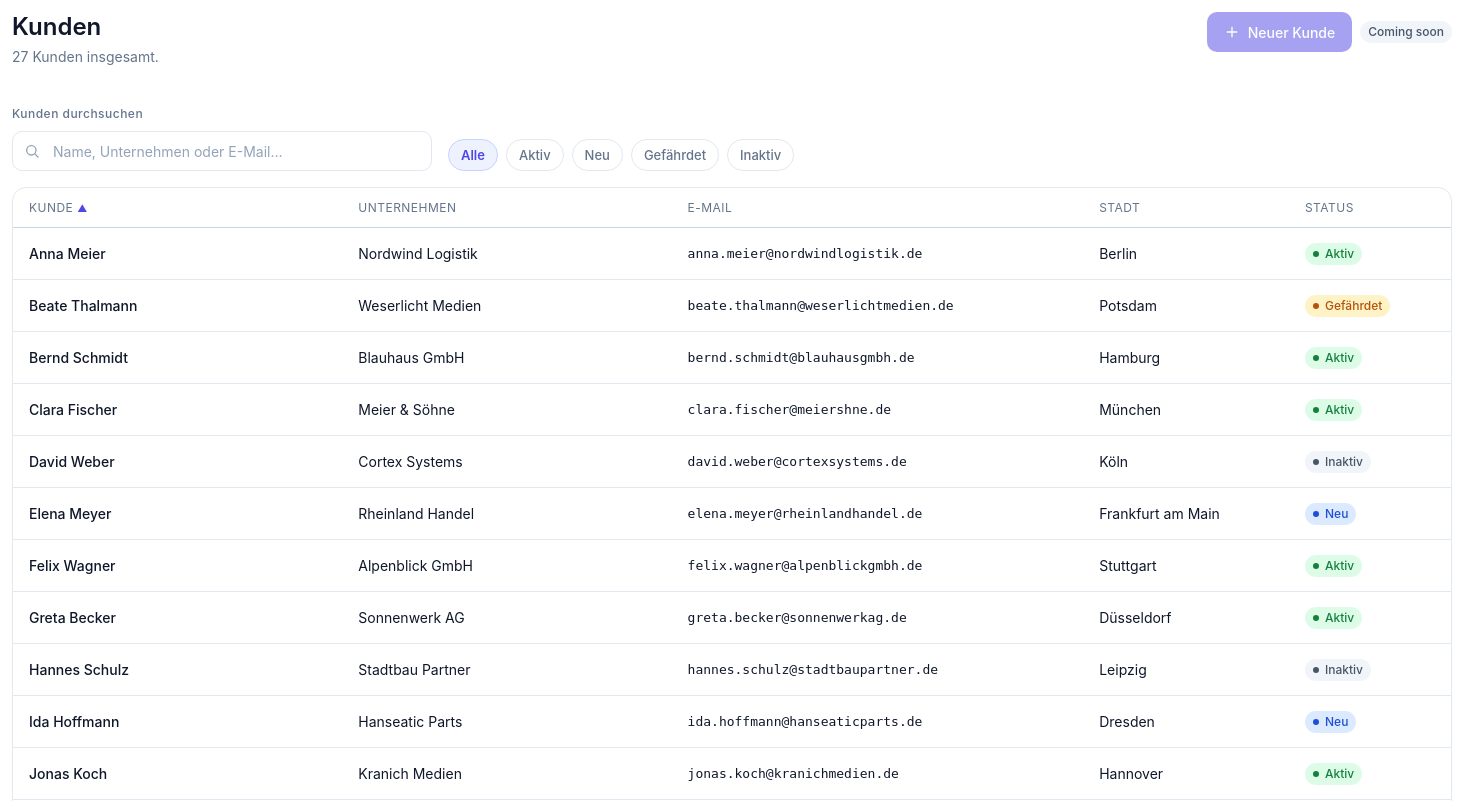
CustomerListScreen › filters by a status chip
Step 1. Click the button "Neu" → coordinates (597, 155), box [572, 139, 623, 171]
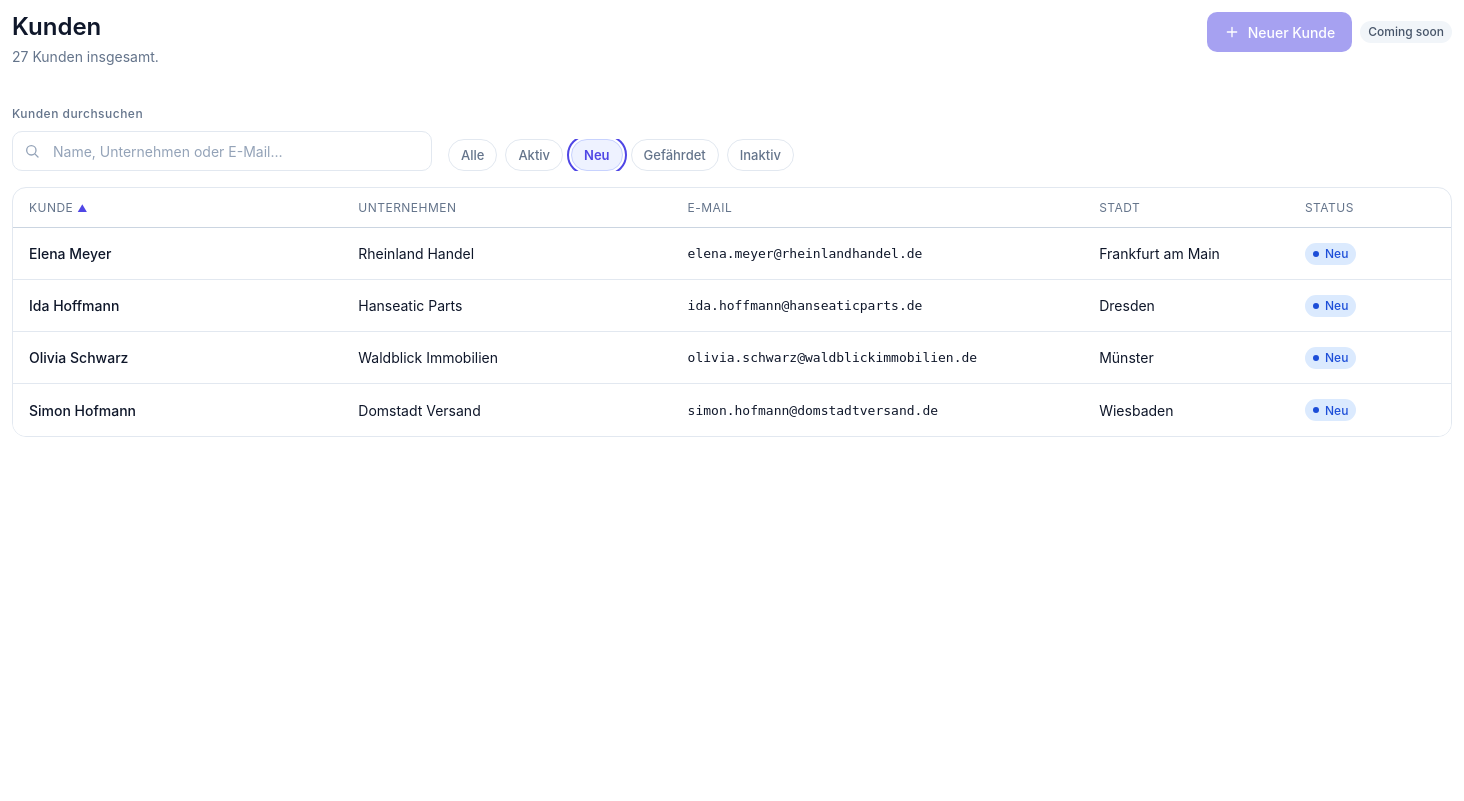
Expected: the number of buttons with test id "customer-row" is 4, [13, 228, 1451, 280]; [13, 280, 1451, 332]; [13, 332, 1451, 384]; [13, 384, 1451, 436]
